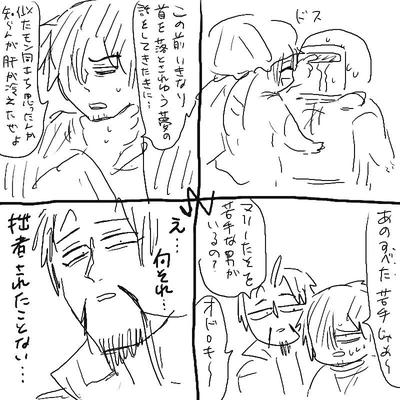bubble: (132, 2, 200, 149), (0, 1, 48, 156), (195, 199, 267, 297), (363, 205, 398, 386), (195, 297, 233, 398)
